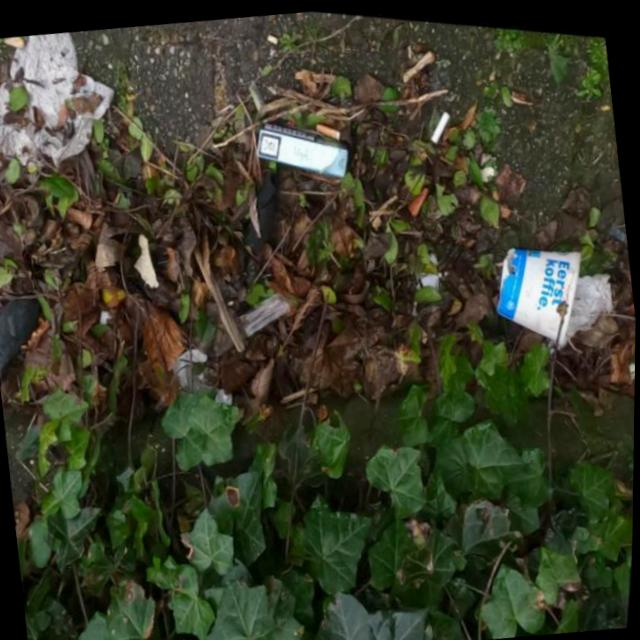Paper: (0, 23, 125, 180), (487, 231, 594, 352), (252, 106, 354, 186), (556, 264, 619, 337)
